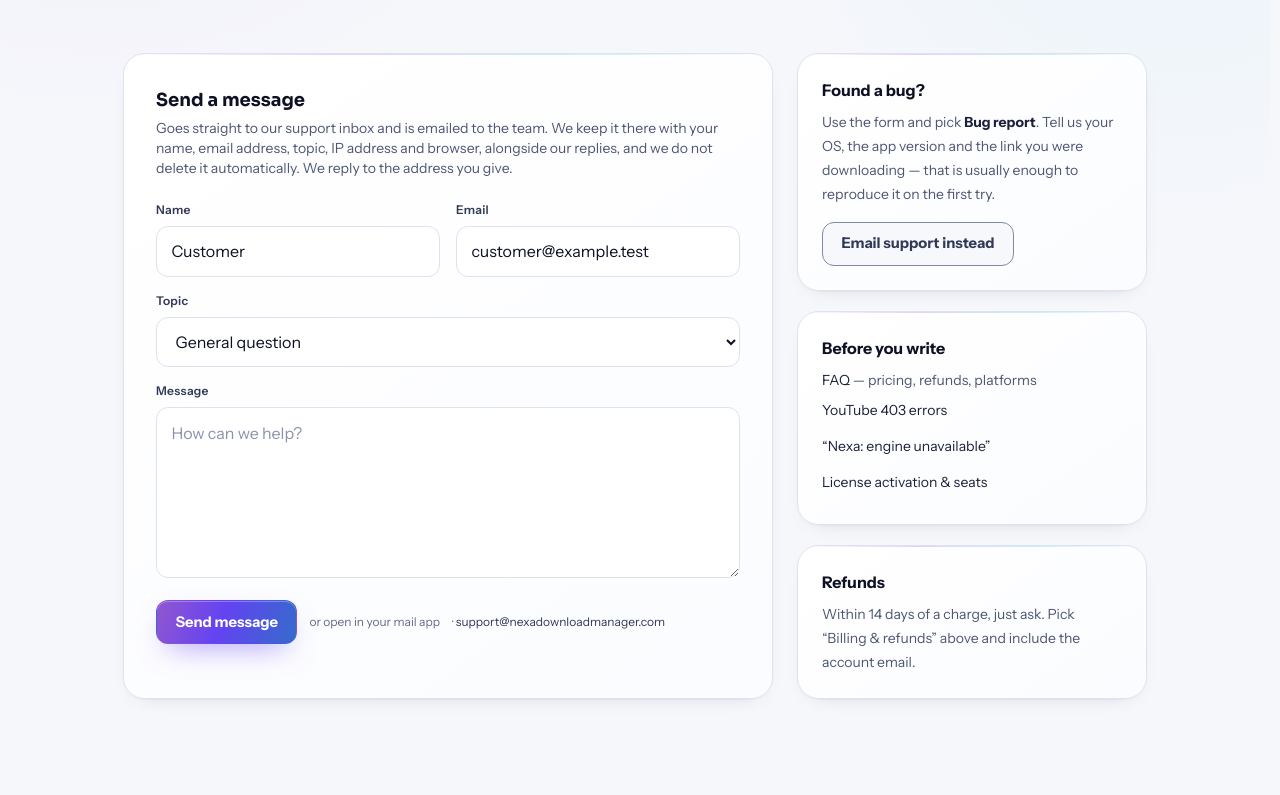
it: Contact — the honeypot › shows the server’s refusal without naming the trap
(page scrolled)
Type "This is a long enough message to send." into the text box labelled "Message" at (448,493), box top-left (156, 407), bottom-right (740, 578)
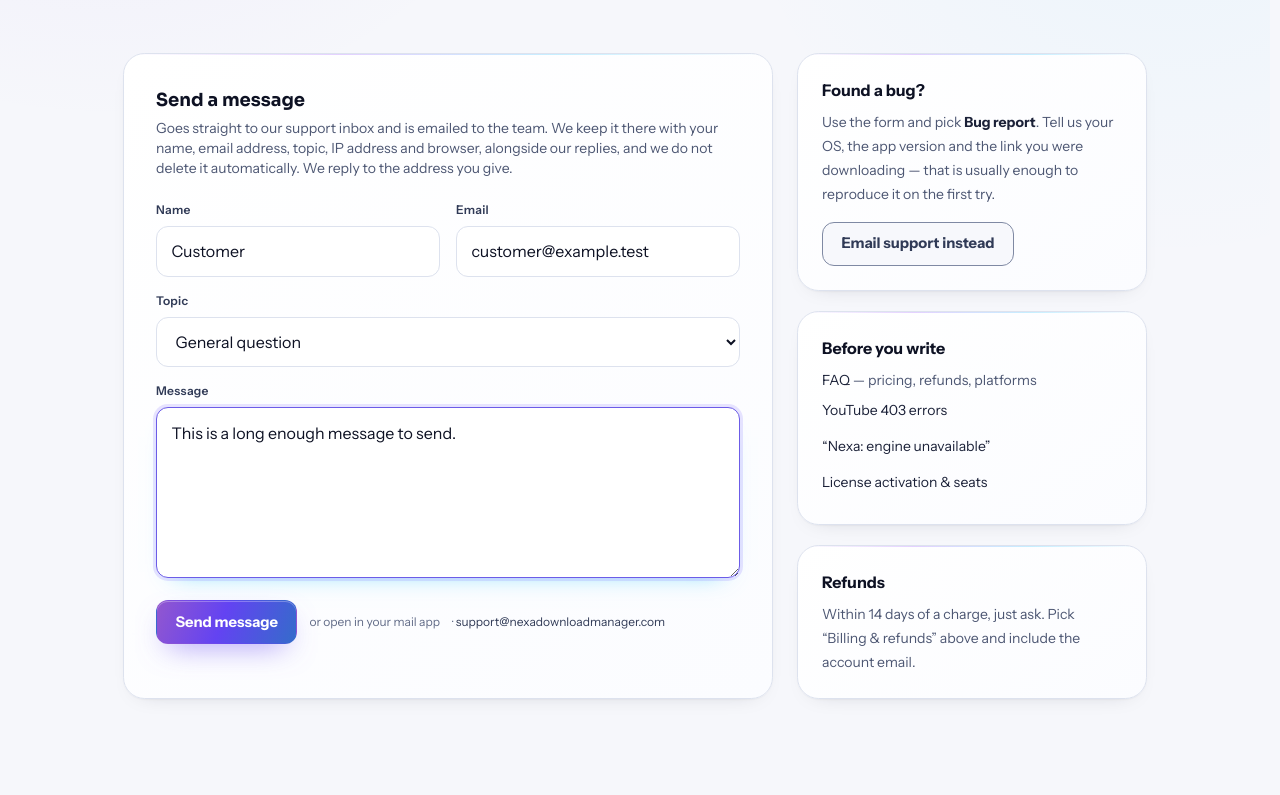
Click the button "Send message" at (227,622), box top-left (156, 600), bottom-right (297, 644)
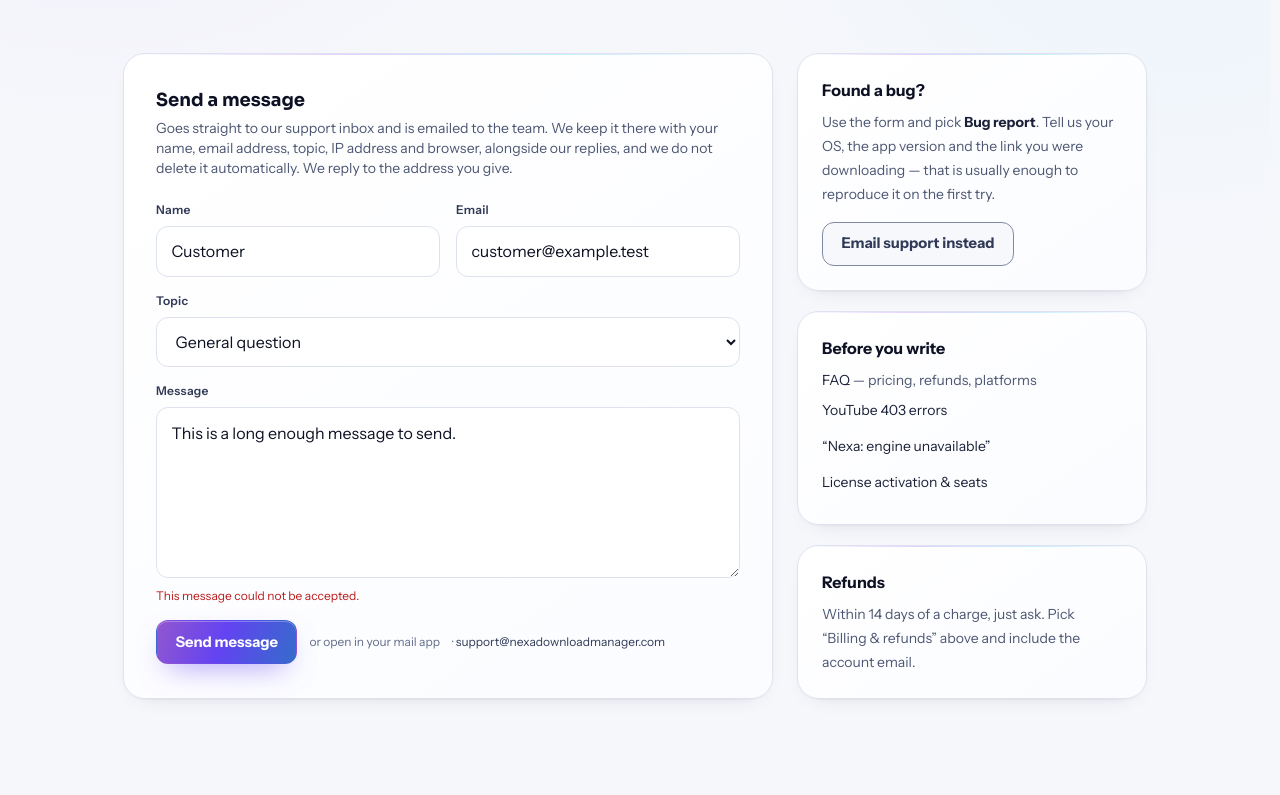
Result: the text "This message could not be accepted." is shown at top-left (156, 588), bottom-right (359, 603)
